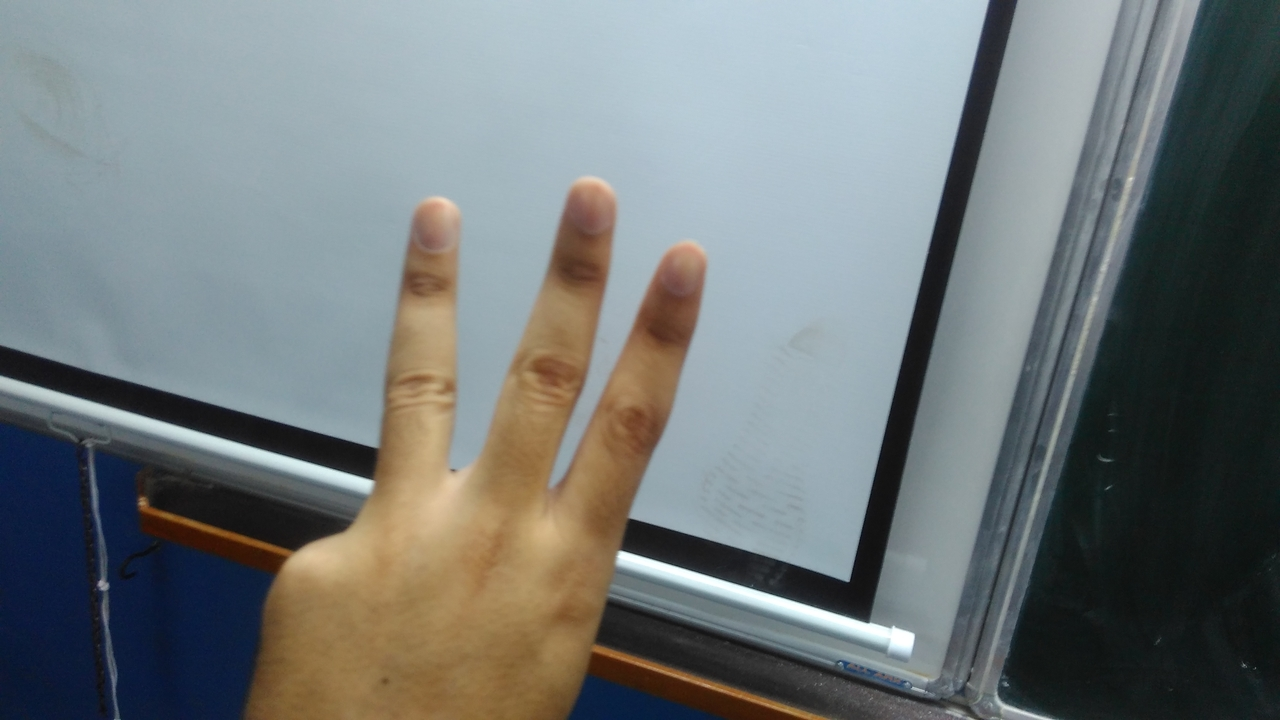fingertip: (646, 234, 716, 300), (556, 168, 622, 234), (400, 186, 466, 248)
